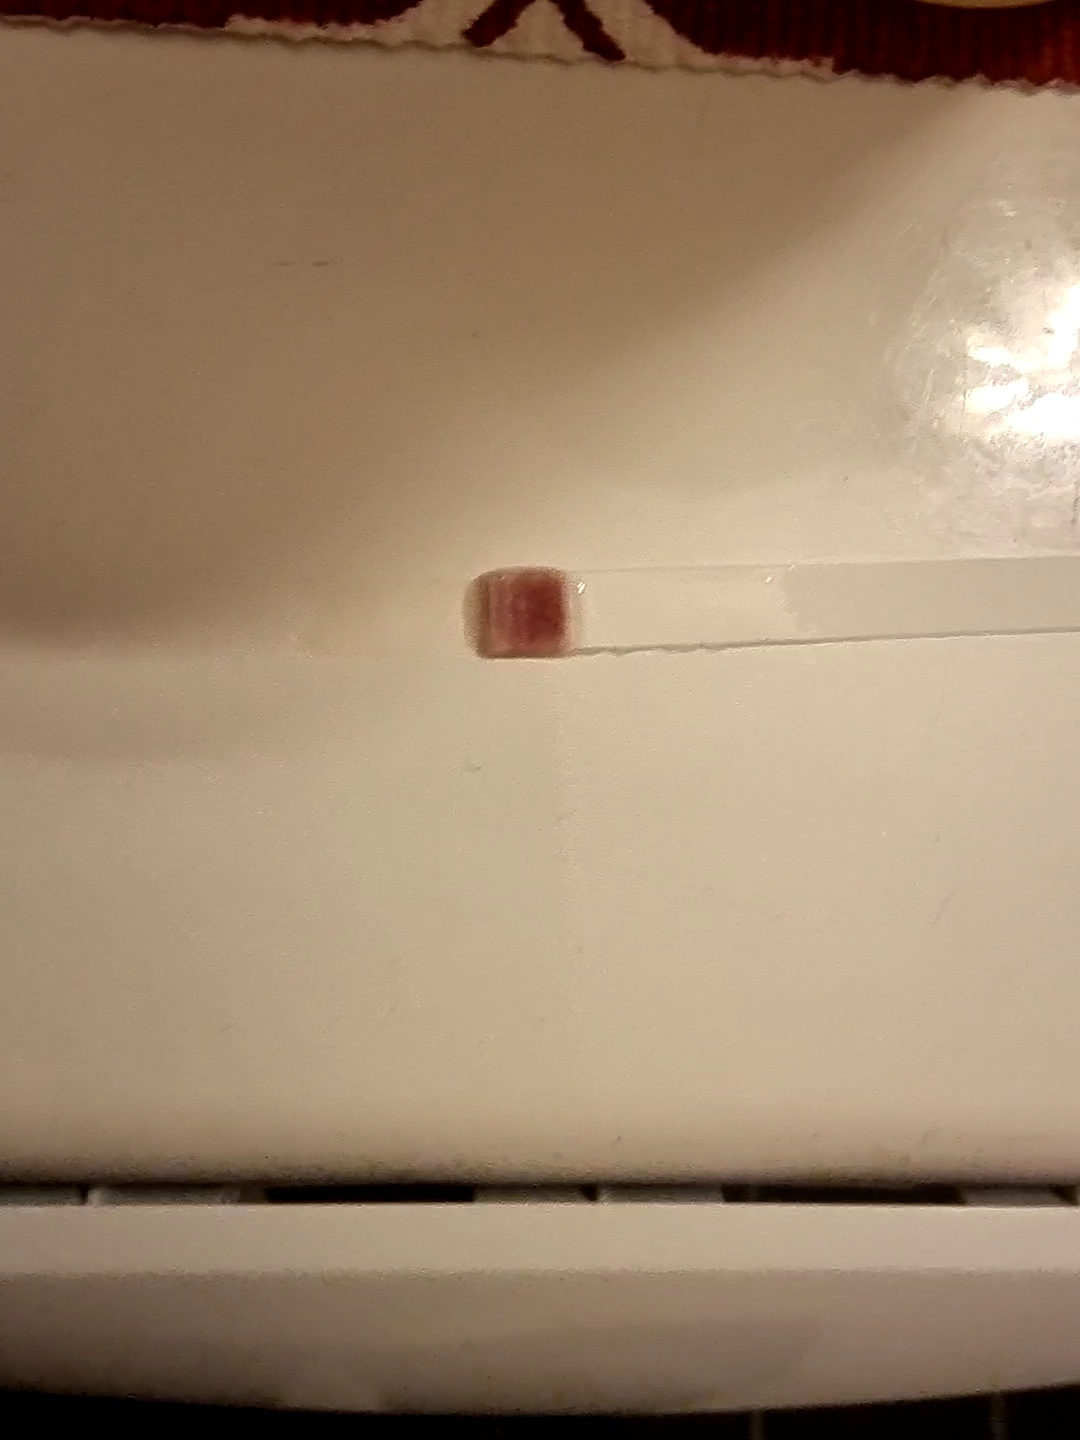keto-tip: (459, 561, 583, 664)
